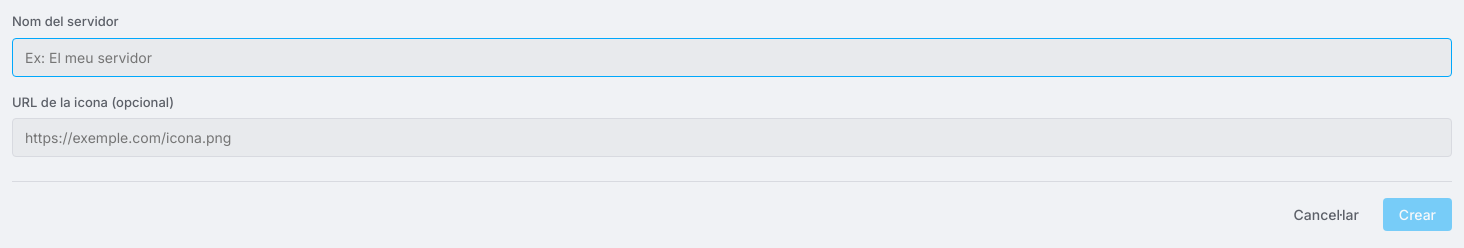
Test case: CreateServerPanel › el botó s activa amb nom de 2+ caracters
In the field labelled "Nom del servidor": (732, 57) 12,38 -> 1452,76, type "AB"
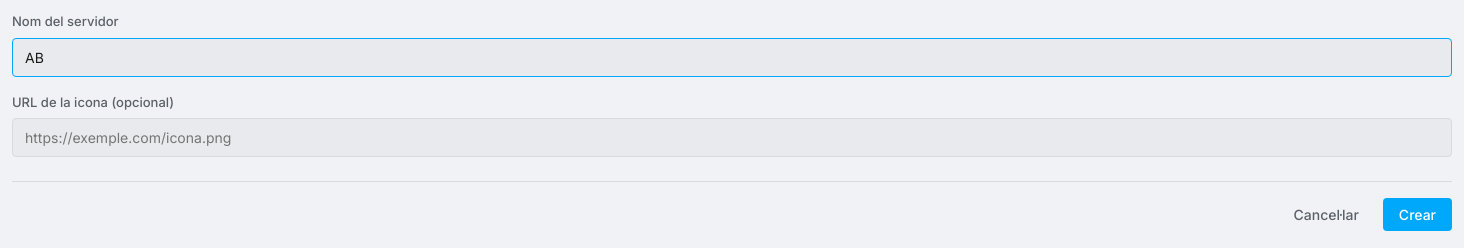
expect the button "Crear" is enabled: met, box 1383,198 -> 1452,231
